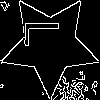L: (25, 20, 68, 47)
